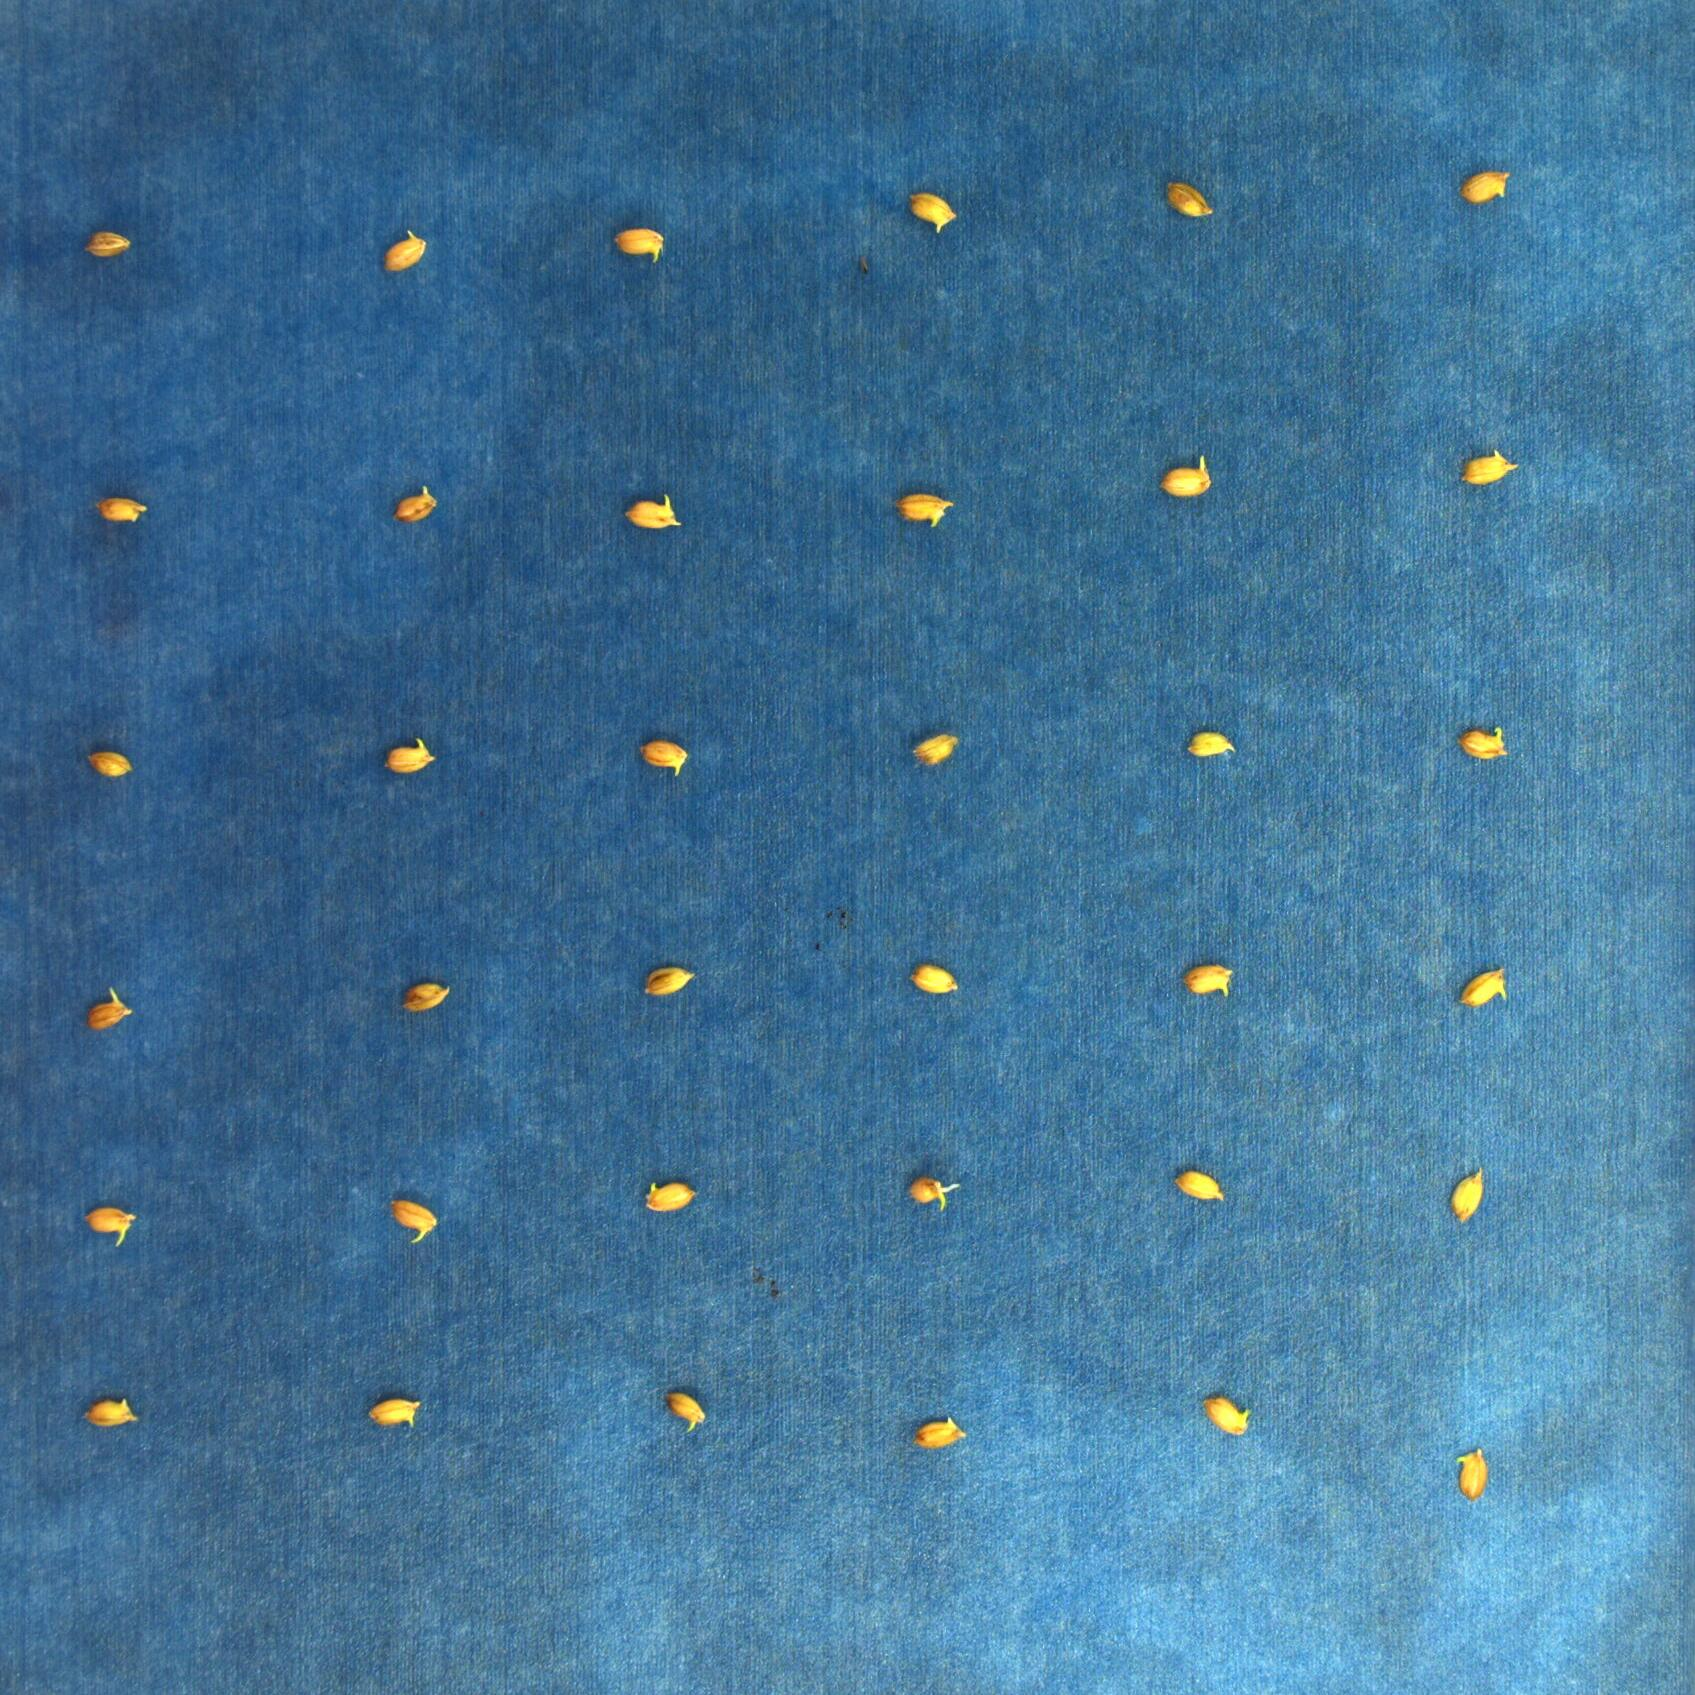not sprout: (379, 1197, 449, 1245), (618, 486, 685, 532), (75, 1388, 141, 1428), (81, 1203, 140, 1246), (608, 220, 664, 265), (1454, 962, 1510, 1007), (1447, 1163, 1487, 1225), (1198, 1392, 1257, 1434), (1459, 445, 1520, 486), (365, 1391, 430, 1428), (81, 987, 132, 1034), (1458, 165, 1513, 206), (1164, 453, 1212, 501), (658, 1388, 709, 1433), (1161, 179, 1215, 220), (379, 227, 428, 272), (380, 731, 432, 775), (908, 1416, 970, 1451), (905, 189, 958, 231), (1458, 725, 1513, 764), (633, 740, 691, 778), (1180, 728, 1239, 764), (640, 1177, 698, 1212), (1451, 1445, 1490, 1498), (391, 481, 439, 523), (906, 961, 965, 995), (1181, 962, 1232, 1001), (1175, 1170, 1226, 1206), (906, 734, 959, 768), (897, 494, 953, 525), (95, 494, 147, 526), (638, 967, 694, 997), (81, 227, 133, 258), (82, 747, 135, 778), (400, 979, 452, 1010)
sprout: (908, 1175, 962, 1211)
